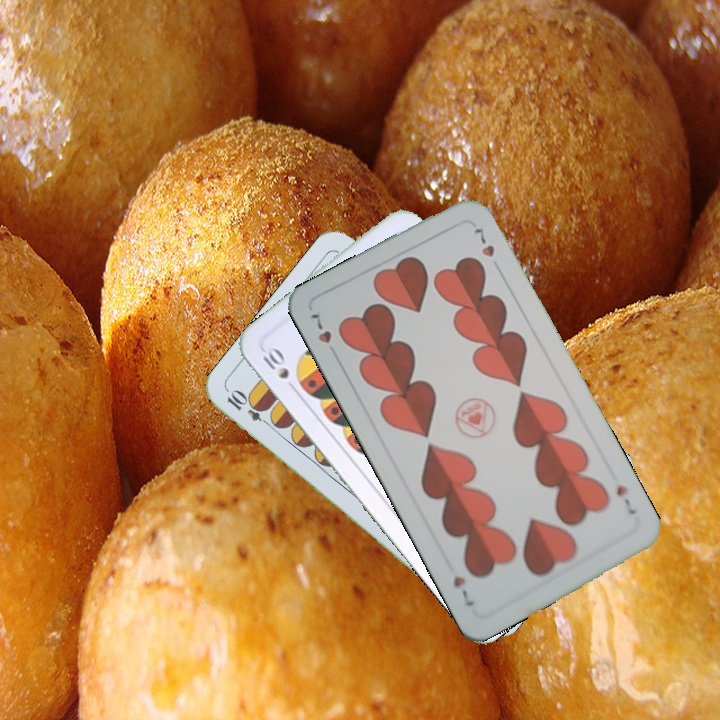E10: (222, 387, 276, 430)
H7: (306, 308, 341, 361), (612, 481, 638, 517)
S10: (256, 343, 300, 395)
